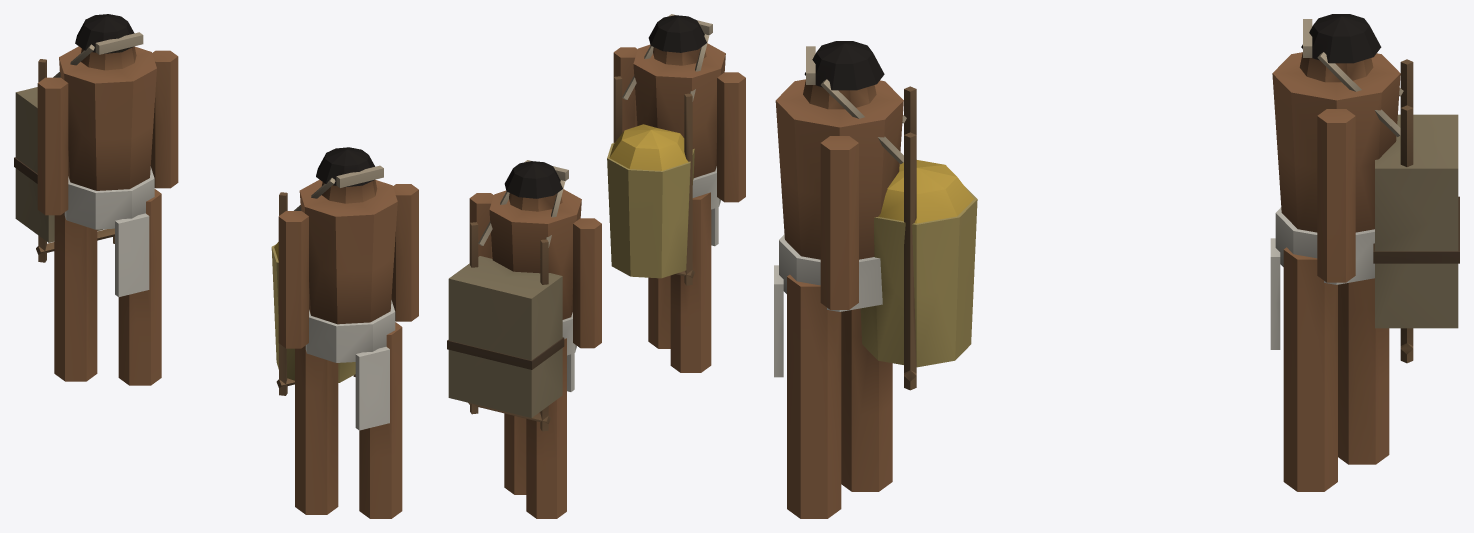
The model's file is mule.glb.
3 views of the same model, side by side, from view 1: azimuth 30°, elevation 25°; view 2: azimuth 150°, elevation 25°; view 3: azimuth 270°, elevation 25° (orthographic). The views are drawn at different scales.
Visible parts, largest first — view 1: base; view 2: base; view 3: base.
Part boxes in pixels (left/top/right/bottom): base: left=14, top=14, right=418, bottom=518; base: left=447, top=14, right=745, bottom=518; base: left=774, top=14, right=1459, bottom=518.
Size of the model in its own units: 0.804 by 1.56 by 2.14.
